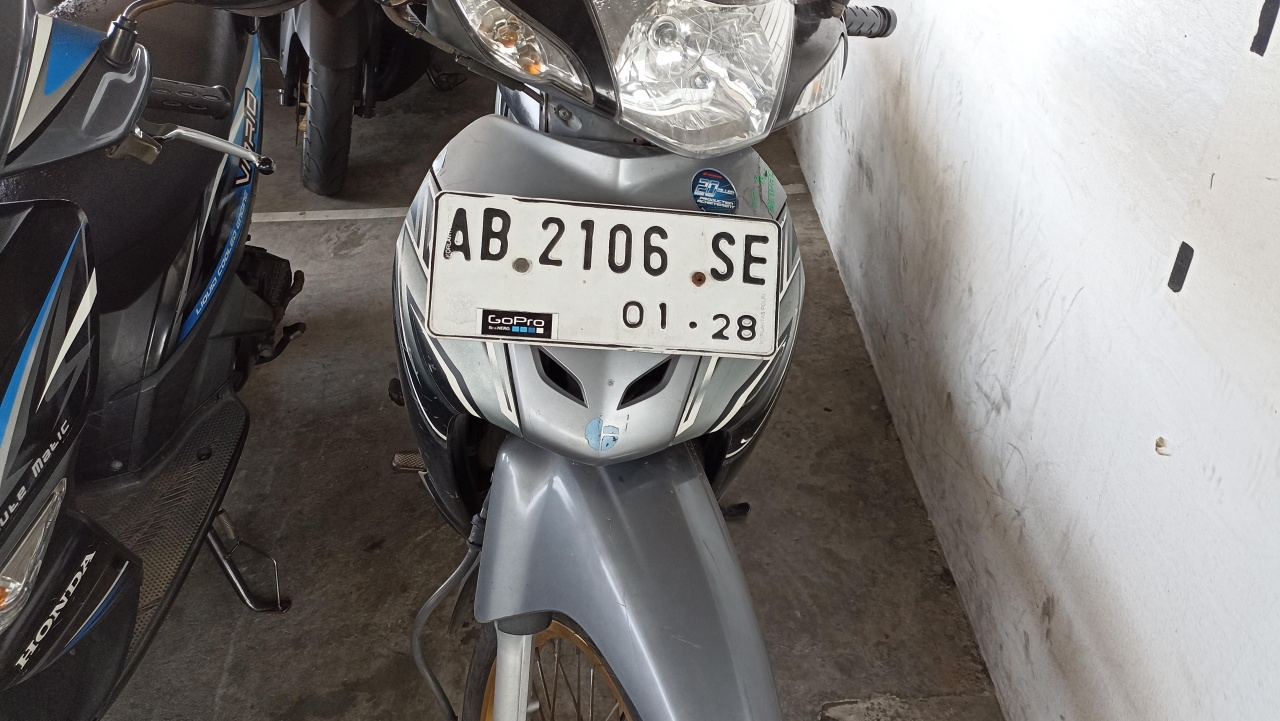plate: (430, 192, 780, 358)
